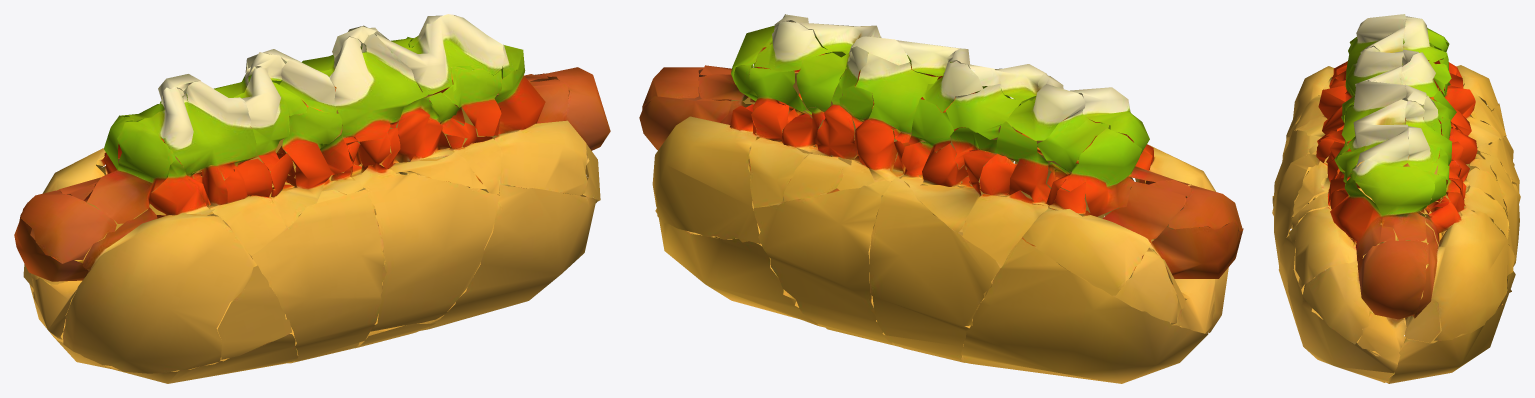
Rendered from food_completo_runtime.glb.
The picture shows the model from 3 angles, left to right: view 1: azimuth 30°, elevation 25°; view 2: azimuth 150°, elevation 25°; view 3: azimuth 270°, elevation 25°; orthographic projection. The views are drawn at different scales.
Parts seen in each view (by area): view 1: Mesh_0; view 2: Mesh_0; view 3: Mesh_0.
Part boxes in pixels (left/top/right/bottom): Mesh_0: left=14, top=14, right=610, bottom=383; Mesh_0: left=639, top=14, right=1243, bottom=383; Mesh_0: left=1272, top=14, right=1520, bottom=383.
Size of the model in its own units: 1.08 by 0.5194 by 0.4694.
Materials: 1 (1 with a texture image).
